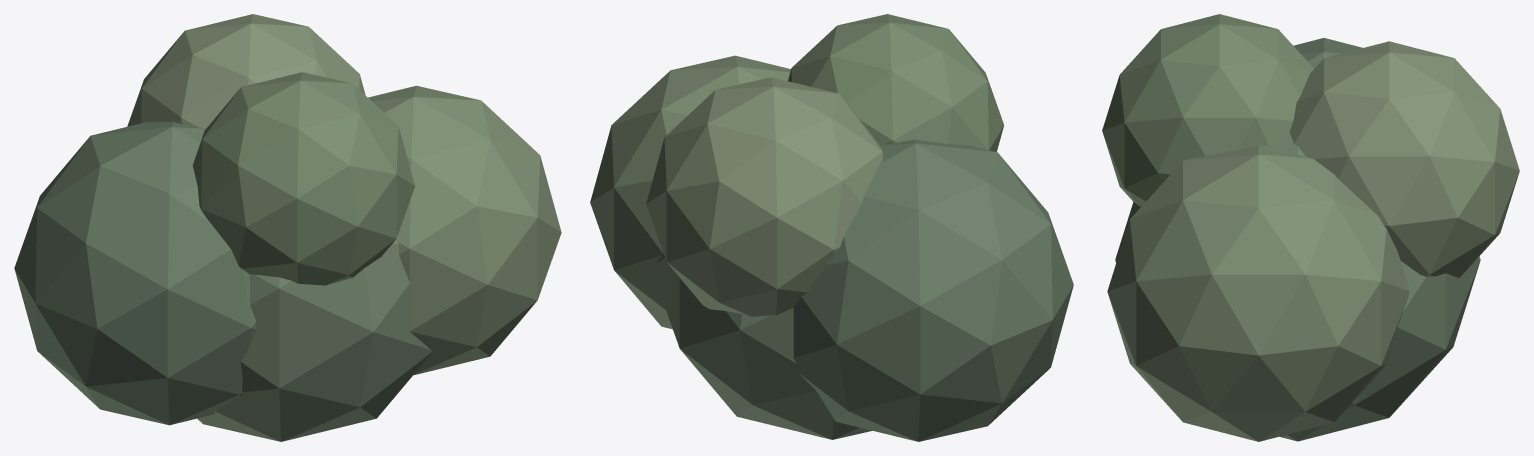
File: bush.glb
The picture shows the model from 3 angles, left to right: view 1: azimuth 30°, elevation 25°; view 2: azimuth 150°, elevation 25°; view 3: azimuth 270°, elevation 25°; orthographic projection. The views are drawn at different scales.
Parts seen in each view (by area): view 1: leaf_2, leaf_4, leaf_1, leaf_0, leaf_3; view 2: leaf_2, leaf_3, leaf_4, leaf_1, leaf_0; view 3: leaf_1, leaf_3, leaf_4, leaf_0, leaf_2.
Part boxes in pixels (<box>): leaf_2: <box>14,121,256,425</box>; leaf_4: <box>192,72,414,285</box>; leaf_1: <box>368,85,561,375</box>; leaf_0: <box>197,238,432,441</box>; leaf_3: <box>127,14,365,128</box>; leaf_2: <box>793,139,1073,441</box>; leaf_3: <box>646,77,884,316</box>; leaf_4: <box>788,14,1004,151</box>; leaf_1: <box>590,55,790,329</box>; leaf_0: <box>653,253,872,439</box>; leaf_1: <box>1107,145,1409,441</box>; leaf_3: <box>1289,41,1519,277</box>; leaf_4: <box>1102,14,1313,206</box>; leaf_0: <box>1115,132,1480,441</box>; leaf_2: <box>1293,38,1362,68</box>.
Bounding box in the file's own units: 2.15 × 1.65 × 1.6.
